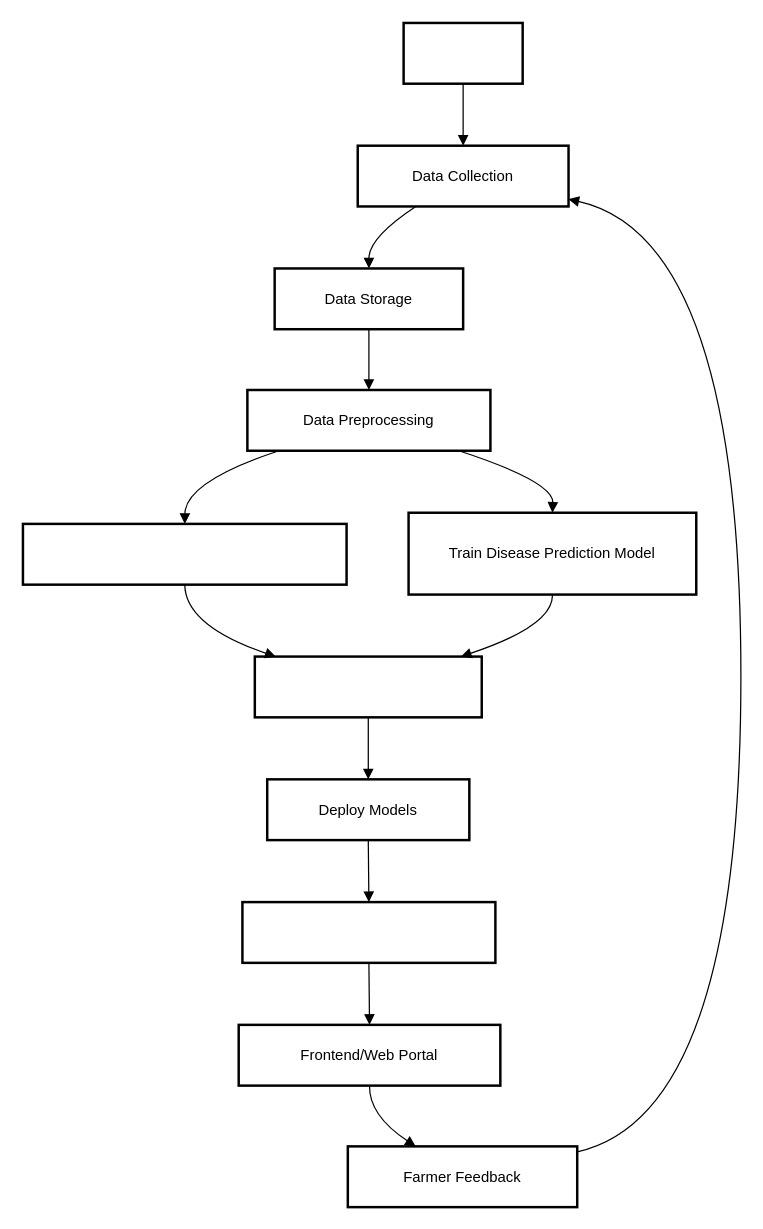
The diagram is 763 pixels wide and 1229 high, and some of its shapes have lost their labels. The box of each missing label's shape, as (x1, y1, x2, y2) in pixels:
Backend Integration: (241, 900, 496, 963)
Model Evaluation: (253, 655, 482, 718)
Start: (402, 21, 523, 84)
Train Yield Prediction Model: (21, 522, 347, 585)
